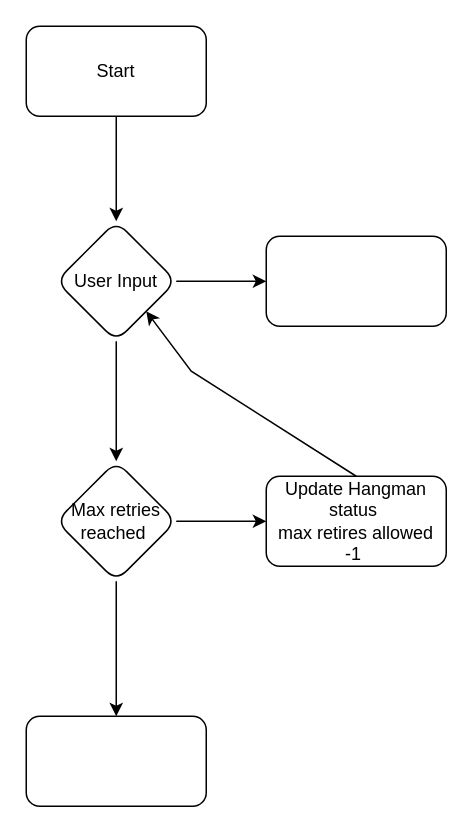
Some shapes in this 473 by 833 pixel diagram are drawn without their labels. Each missing label, with the centre of its shape:
"Correct user input add the new letter display again the current word" belongs at point 355,280.
"Game end" belongs at point 115,760.
